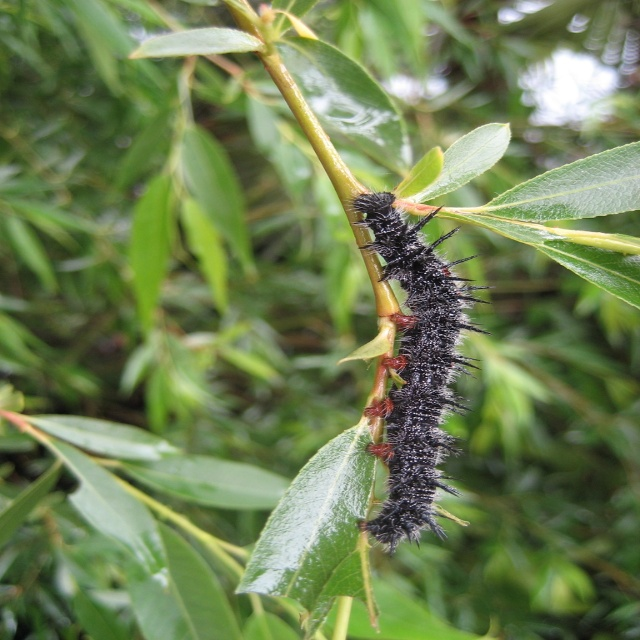Caterpillar: (345, 190, 497, 546)
